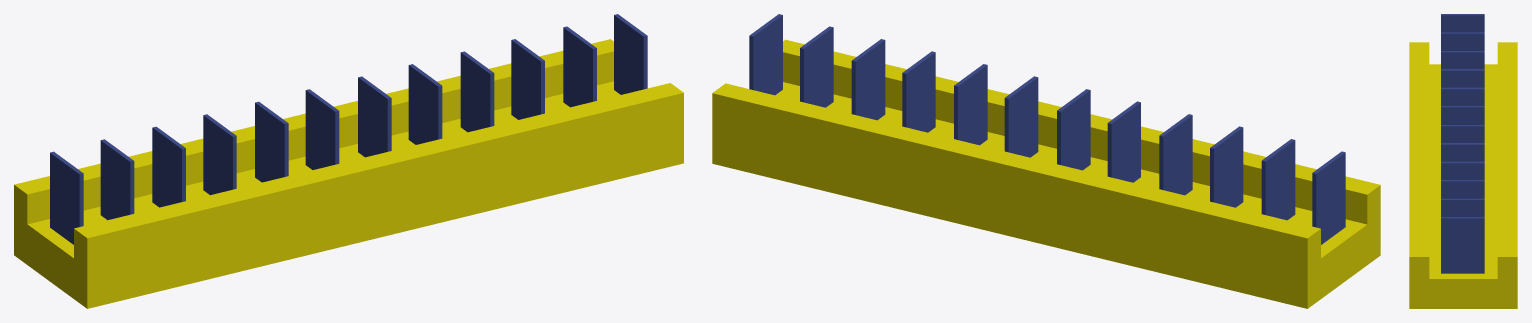
File: AssetsForUnityExtra.fbx
The picture shows the model from 3 angles, left to right: view 1: azimuth 30°, elevation 25°; view 2: azimuth 150°, elevation 25°; view 3: azimuth 270°, elevation 25°; orthographic projection. The views are drawn at different scales.
Visible parts, largest first — view 1: pCube20, pCube19, pCube26, pCube24, pCube28, pCube21, pCube23, pCube27, pCube30, pCube22, pCube29, pCube25 (+1 smaller); view 2: pCube20, pCube19, pCube27, pCube21, pCube29, pCube24, pCube23, pCube30, pCube26, pCube28, pCube22, pCube31 (+1 smaller); view 3: pCube20, pCube31, pCube19, pCube21, pCube22, pCube24, pCube25, pCube26, pCube27, pCube28, pCube30, pCube23 (+1 smaller).
Boxes of the visible parts, x1=… form: pCube20: x1=14, y1=39, x2=683, y2=308; pCube19: x1=50, y1=151, x2=83, y2=244; pCube26: x1=408, y1=64, x2=442, y2=144; pCube24: x1=305, y1=89, x2=339, y2=169; pCube28: x1=460, y1=51, x2=494, y2=132; pCube21: x1=100, y1=139, x2=134, y2=220; pCube23: x1=152, y1=126, x2=185, y2=207; pCube27: x1=511, y1=39, x2=544, y2=119; pCube30: x1=563, y1=26, x2=596, y2=107; pCube22: x1=203, y1=114, x2=236, y2=195; pCube29: x1=358, y1=76, x2=391, y2=157; pCube25: x1=255, y1=101, x2=288, y2=182; pCube20: x1=712, y1=39, x2=1380, y2=308; pCube19: x1=1312, y1=151, x2=1345, y2=244; pCube27: x1=851, y1=39, x2=885, y2=120; pCube21: x1=1261, y1=139, x2=1295, y2=220; pCube29: x1=1004, y1=76, x2=1038, y2=157; pCube24: x1=1057, y1=89, x2=1090, y2=170; pCube23: x1=1210, y1=126, x2=1243, y2=207; pCube30: x1=800, y1=26, x2=833, y2=107; pCube26: x1=954, y1=64, x2=987, y2=145; pCube28: x1=902, y1=51, x2=935, y2=132; pCube22: x1=1159, y1=114, x2=1192, y2=195; pCube31: x1=749, y1=14, x2=782, y2=95; pCube20: x1=1409, y1=42, x2=1517, y2=308; pCube31: x1=1441, y1=217, x2=1484, y2=273; pCube19: x1=1441, y1=14, x2=1484, y2=32; pCube21: x1=1441, y1=32, x2=1484, y2=50; pCube22: x1=1441, y1=69, x2=1484, y2=87; pCube24: x1=1441, y1=106, x2=1484, y2=124; pCube25: x1=1441, y1=87, x2=1484, y2=105; pCube26: x1=1441, y1=143, x2=1484, y2=161; pCube27: x1=1441, y1=180, x2=1484, y2=198; pCube28: x1=1441, y1=161, x2=1484, y2=179; pCube30: x1=1441, y1=198, x2=1484, y2=216; pCube23: x1=1441, y1=51, x2=1484, y2=68.
Size of the model in its own units: 11.61 by 2.15 by 2.47.
